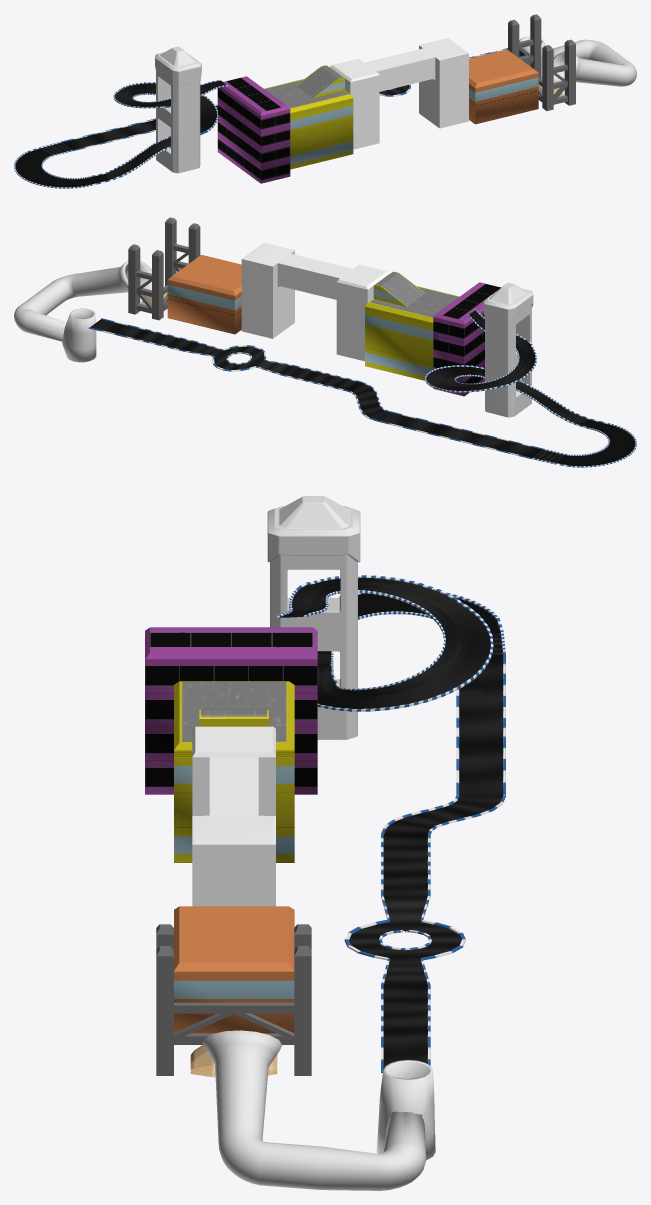
File: pista2.fbx
The picture shows the model from 3 angles, top to bottom: view 1: azimuth 30°, elevation 25°; view 2: azimuth 150°, elevation 25°; view 3: azimuth 270°, elevation 25°; orthographic projection. The views are drawn at different scales.
Parts seen in each view (by area): view 1: Flat 2.005, Flat 2.007, Plane.002, Flat 2.006, Cube.001, Flat 2.004, Flat 2.002, Cylinder; view 2: Plane.002, Flat 2.005, Flat 2.006, Cylinder, Cube.001, Flat 2.004, Flat 2.007, Flat 2.002; view 3: Plane.002, Cylinder, Flat 2.007, Flat 2.005, Flat 2.004, Cube.001, Flat 2.006, Flat 2.002.
Boxes of the visible parts, x1,y1,x2,y2 form: Flat 2.005: (329, 38, 468, 149); Flat 2.007: (217, 76, 290, 183); Plane.002: (14, 48, 526, 188); Flat 2.006: (264, 65, 353, 169); Cube.001: (155, 46, 201, 173); Flat 2.004: (469, 49, 538, 124); Flat 2.002: (508, 14, 575, 110); Cylinder: (519, 36, 636, 86); Plane.002: (88, 309, 636, 467); Flat 2.005: (241, 243, 389, 361); Flat 2.006: (365, 271, 459, 380); Cylinder: (14, 260, 151, 362); Cube.001: (483, 282, 533, 417); Flat 2.004: (167, 254, 241, 334); Flat 2.007: (433, 282, 500, 396); Flat 2.002: (128, 217, 200, 320); Plane.002: (277, 575, 505, 1072); Cylinder: (202, 1030, 435, 1190); Flat 2.007: (145, 627, 317, 794); Flat 2.005: (192, 726, 275, 906); Flat 2.004: (174, 906, 294, 1033); Cube.001: (267, 496, 360, 739); Flat 2.006: (174, 681, 294, 862); Flat 2.002: (156, 924, 311, 1075).
Bounding box in the file's own units: 15648 × 3637 × 4201.
